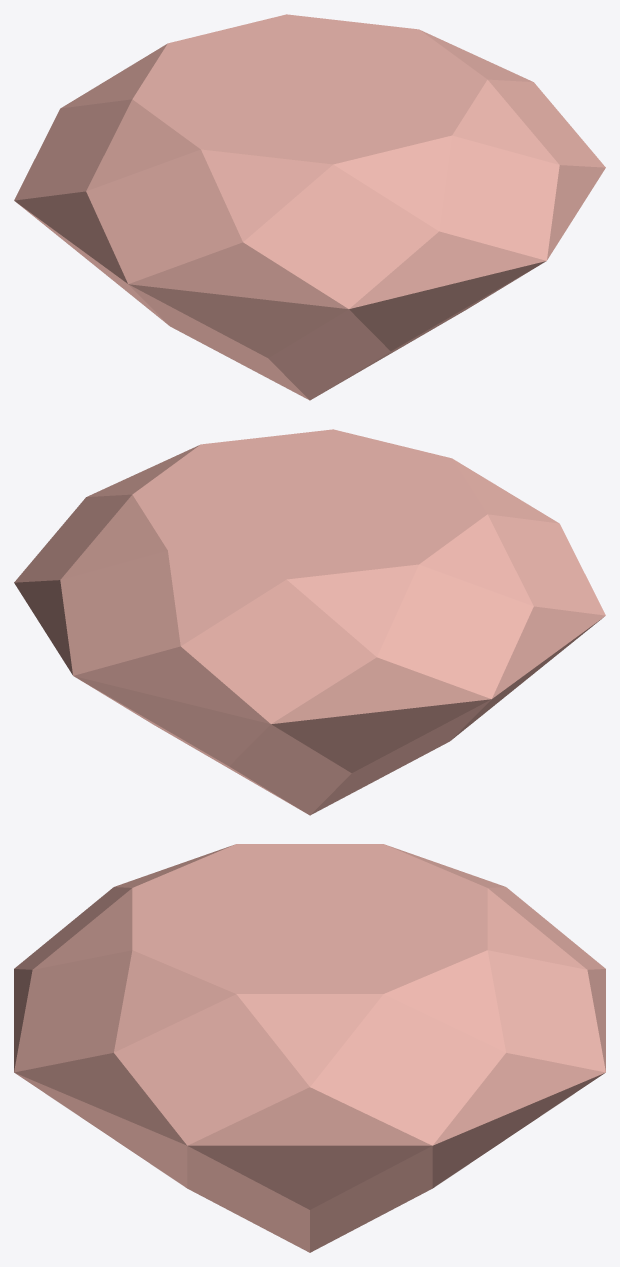
File: SM_Gem.fbx
The picture shows the model from 3 angles, top to bottom: view 1: azimuth 30°, elevation 25°; view 2: azimuth 150°, elevation 25°; view 3: azimuth 270°, elevation 25°; orthographic projection. The views are drawn at different scales.
Parts seen in each view (by area): view 1: Gem01; view 2: Gem01; view 3: Gem01.
Boxes of the visible parts, left/top/right/bottom form: Gem01: left=14, top=14, right=605, bottom=400; Gem01: left=14, top=429, right=605, bottom=815; Gem01: left=14, top=844, right=605, bottom=1252.
Size of the model in its own units: 97.41 by 60.63 by 97.41.
